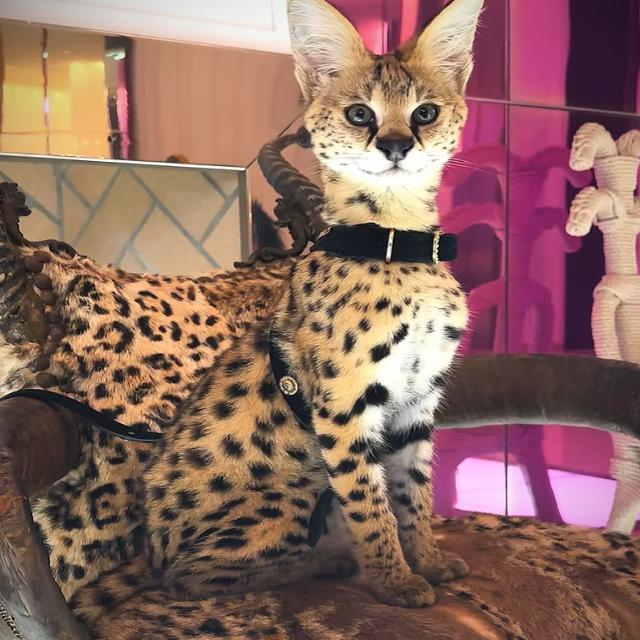Savannah: (132, 0, 493, 612)
